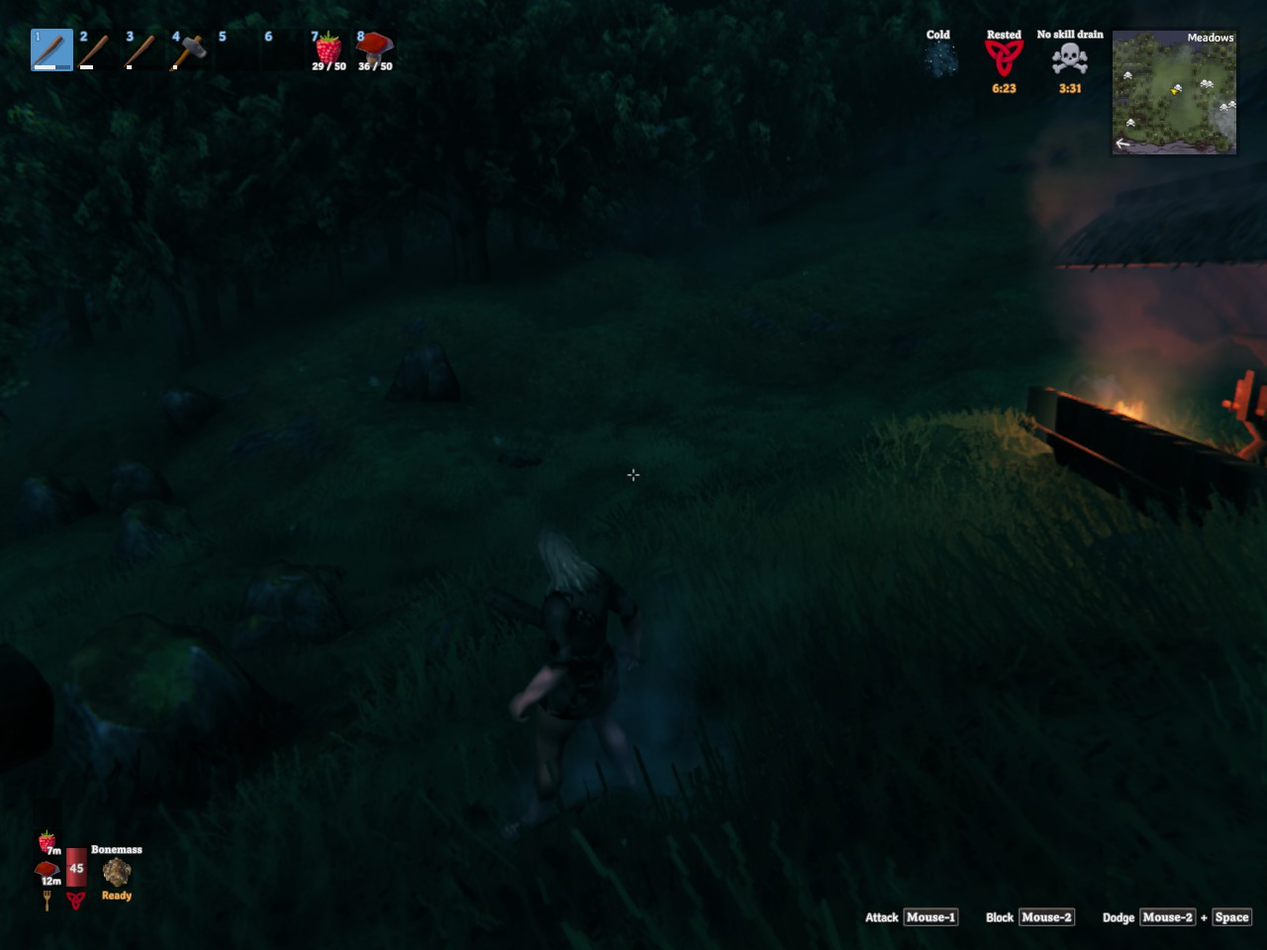Status Indicator: (916, 22, 1112, 113)
